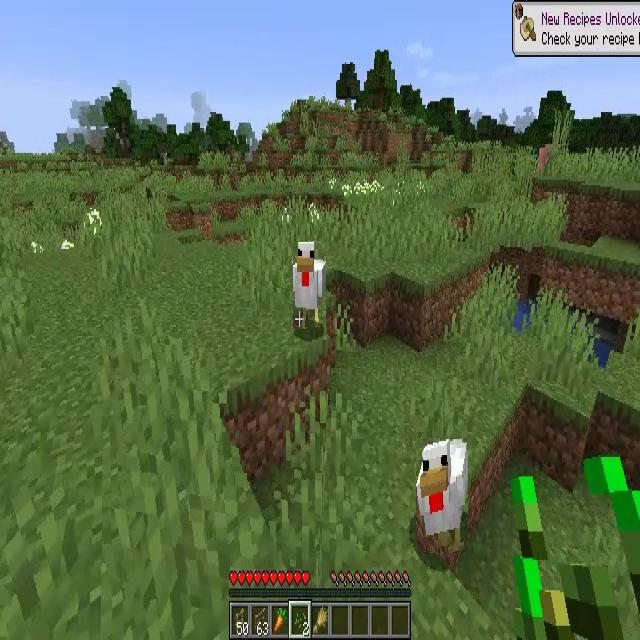duck: (416, 438, 468, 552), (293, 242, 326, 330)
flower: (84, 209, 102, 235)
